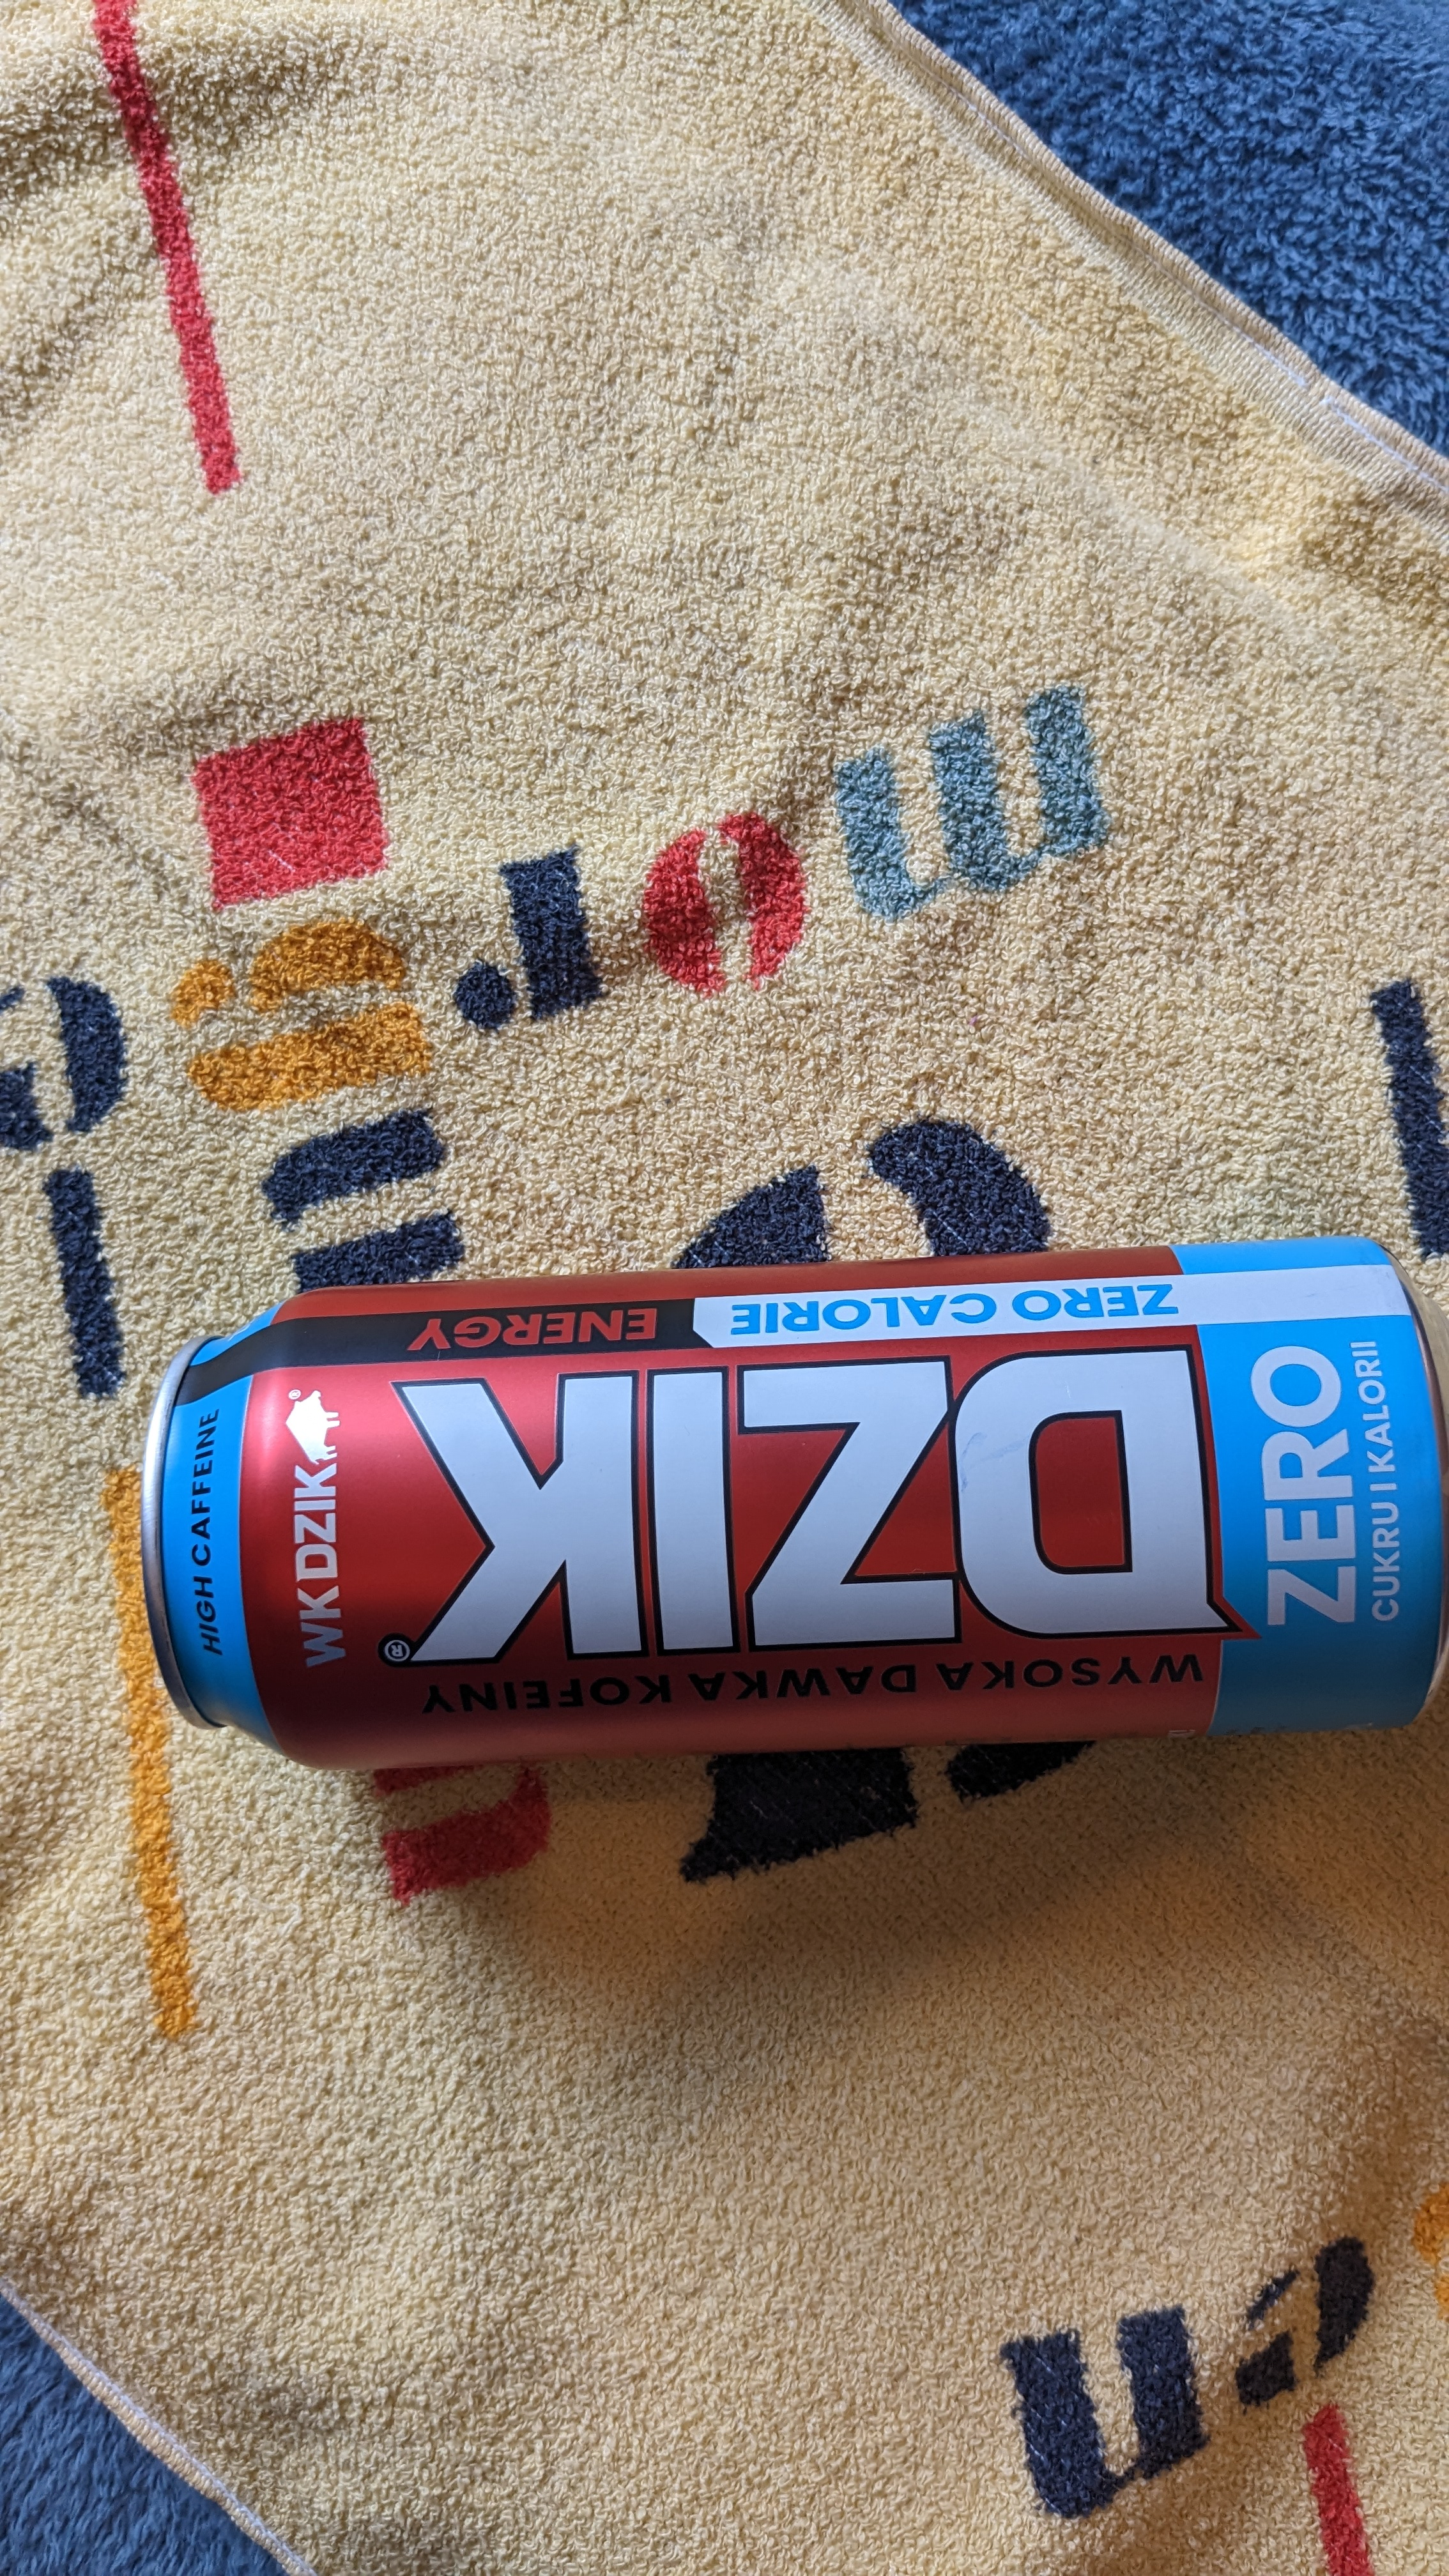dzik: (136, 1226, 1442, 1767)
